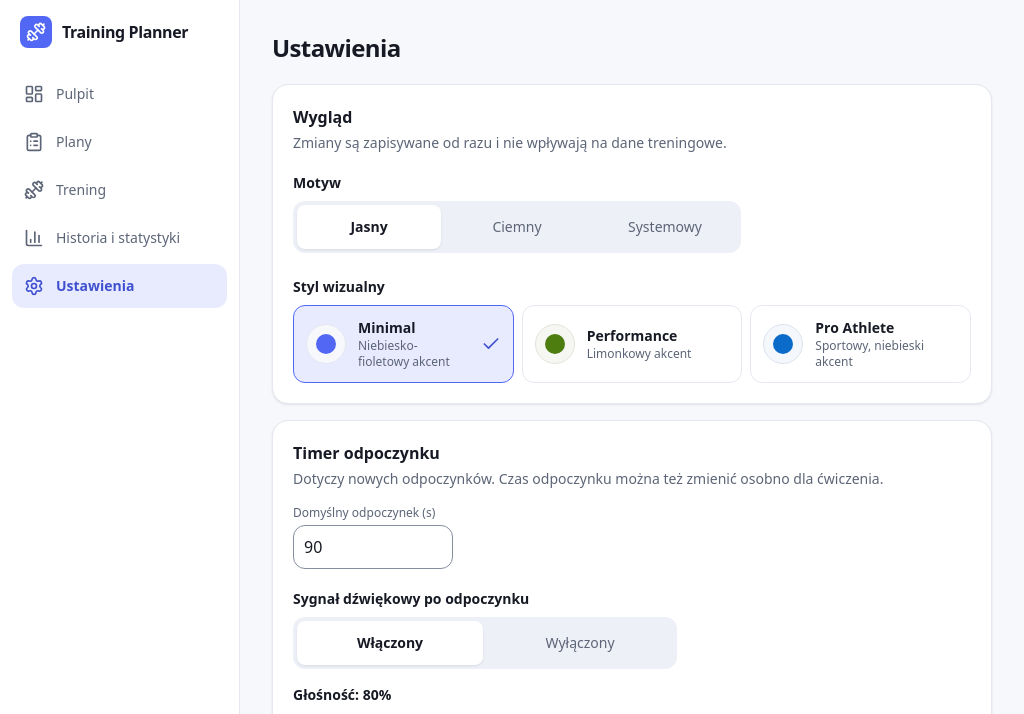
App › follows the device setting when the theme is "Systemowy"
Expected: the heading "Ustawienia" is shown, [272,31,401,64]
Step 1. Click the radio button labelled "Systemowy" → x=665, y=227, box [593,205,737,249]
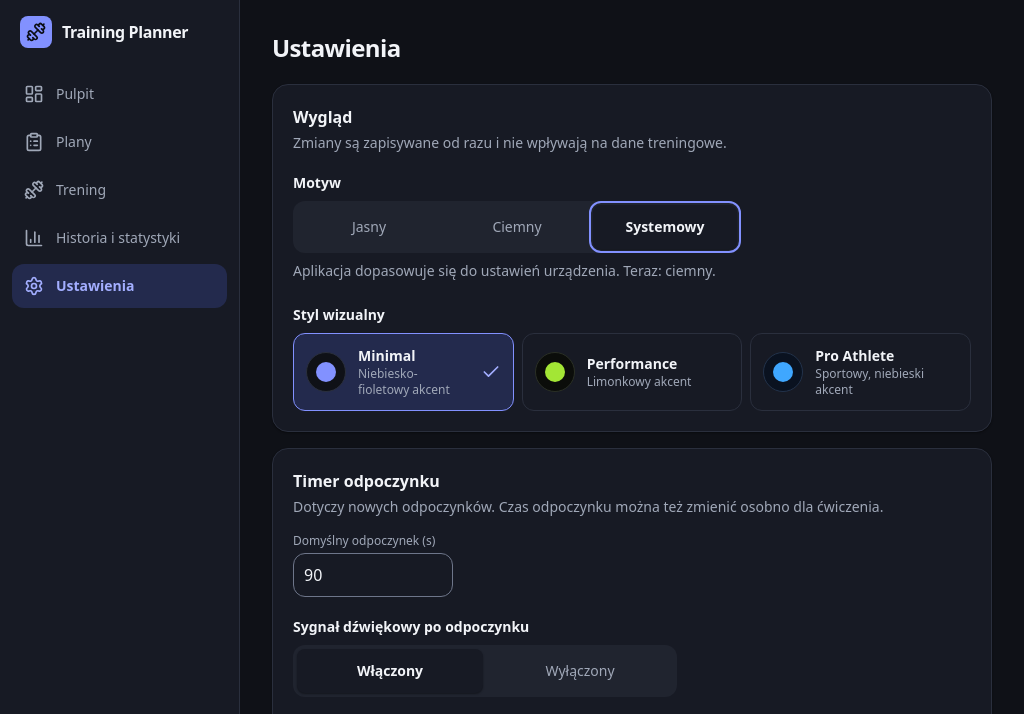
Now the text "Teraz: ciemny" is shown, box [293,261,716,280]
